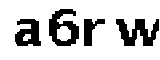6: (47, 6, 80, 48)
a: (14, 18, 43, 52)
r: (81, 16, 107, 50)
w: (113, 15, 160, 48)
